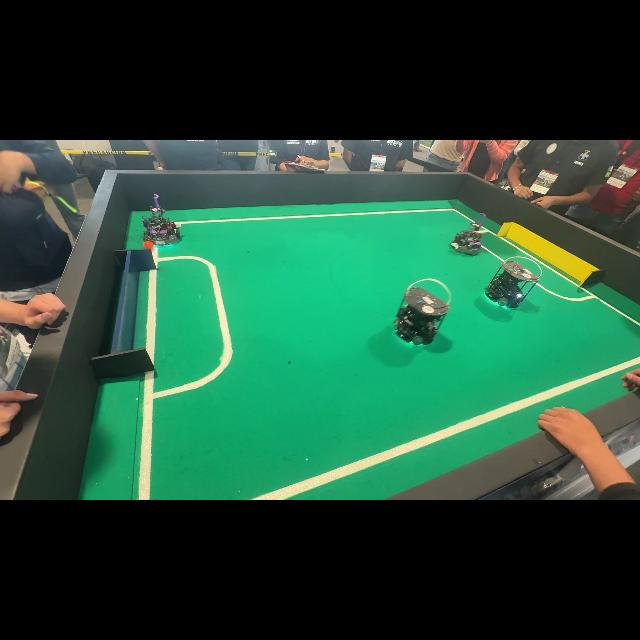ball: (143, 241, 154, 249)
goal: (91, 250, 156, 379), (497, 223, 605, 287)
robot: (394, 278, 451, 345), (485, 256, 542, 308), (142, 194, 180, 249), (450, 213, 485, 255)
